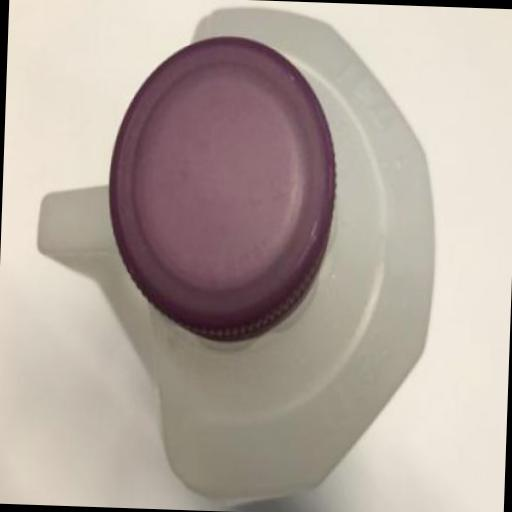plastic: (26, 0, 444, 505), (102, 31, 340, 343)
